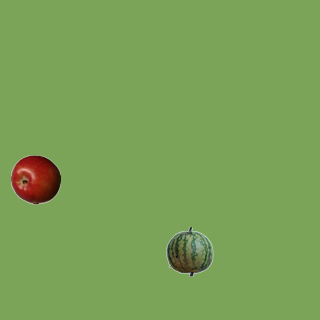Apple Braeburn: (10, 154, 60, 204)
Watermelon: (164, 226, 214, 276)
